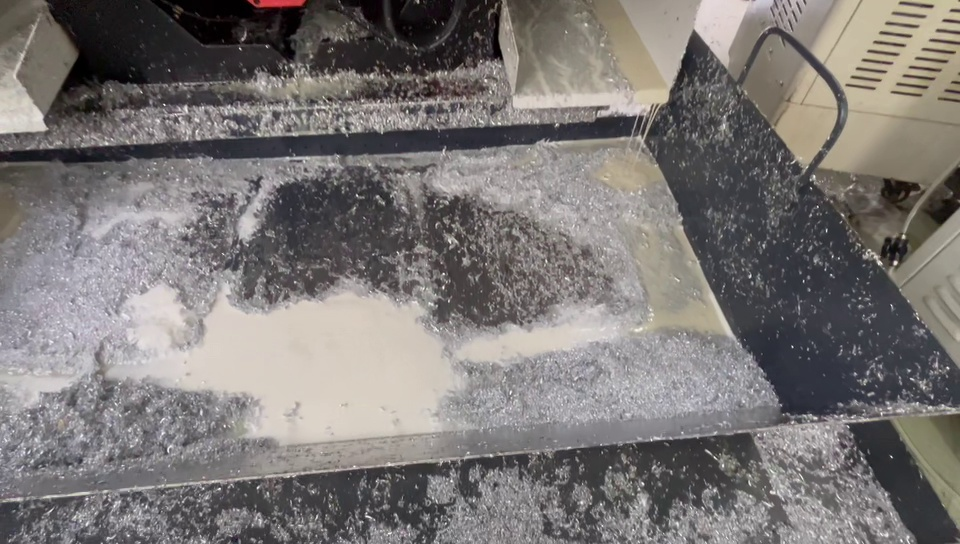iron_scrap: (461, 355, 779, 425), (9, 170, 117, 367), (3, 381, 255, 460), (56, 88, 509, 130), (438, 150, 675, 221), (764, 432, 899, 544), (119, 223, 243, 295), (122, 166, 261, 222), (434, 478, 558, 540), (587, 231, 648, 317), (613, 331, 733, 352)
